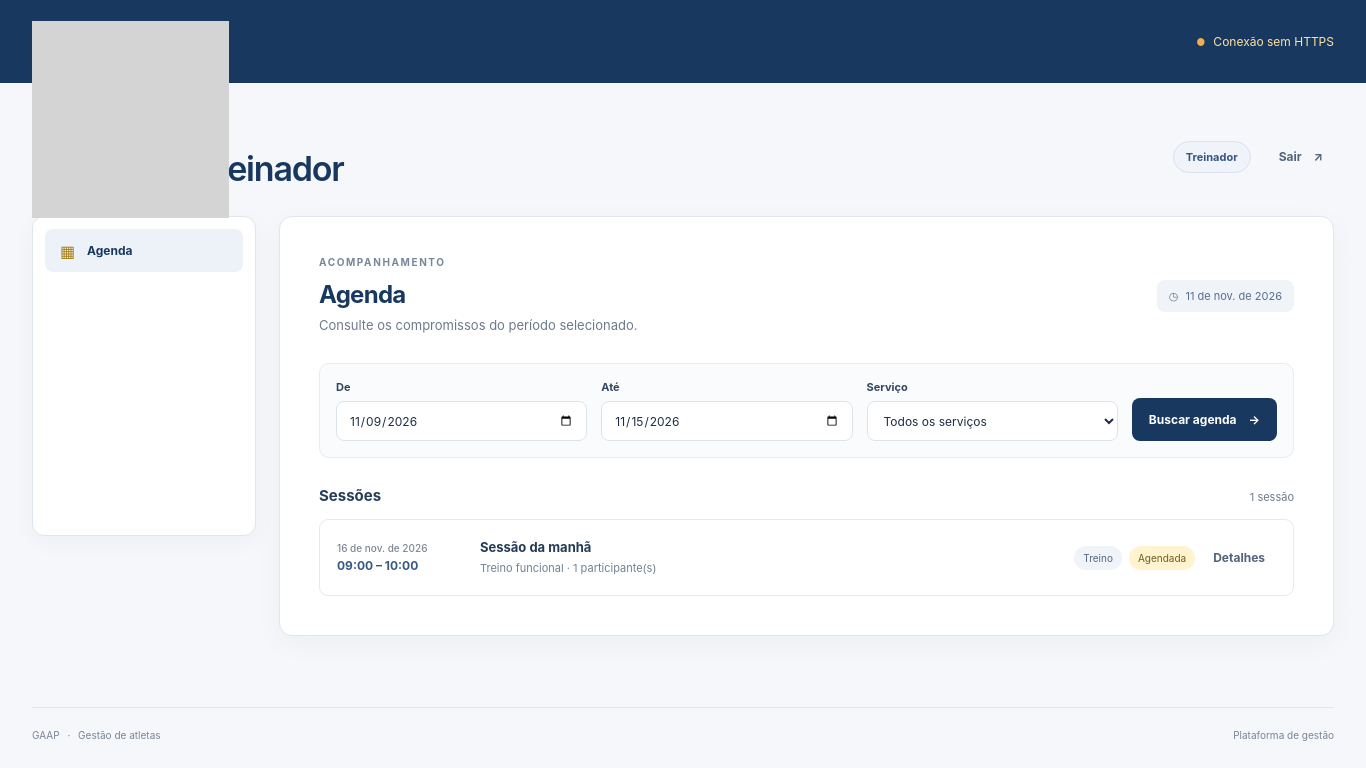
Test case: Treinador › registra presença, vê a recusa 409 da situação e o aviso antecipado do relatório
Expected: the text "1 sessão" is shown, [1250, 489, 1294, 506]
Click the button "Detalhes": click(1239, 558) [1202, 536, 1276, 579]
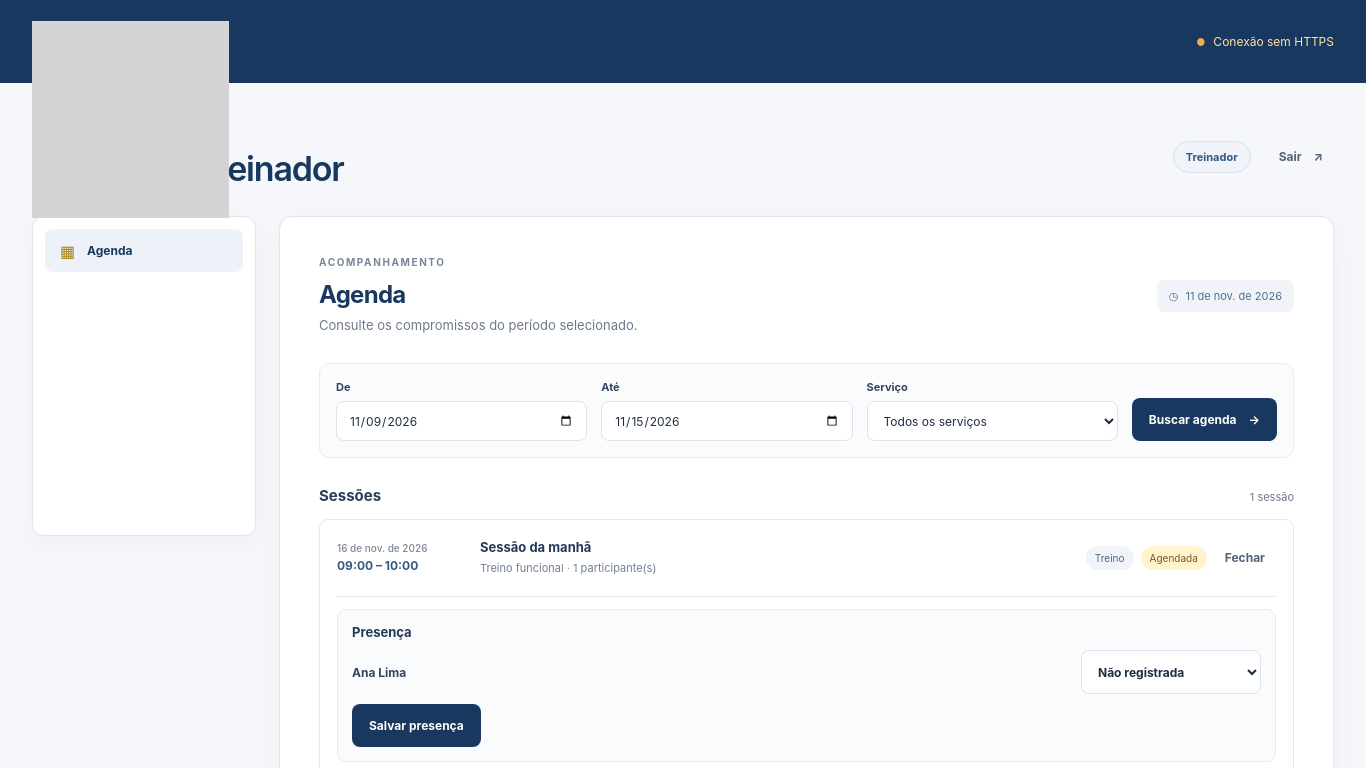
Select "Presente" in the dropdown labelled "Ana Lima": (1171, 672) [1081, 650, 1261, 694]
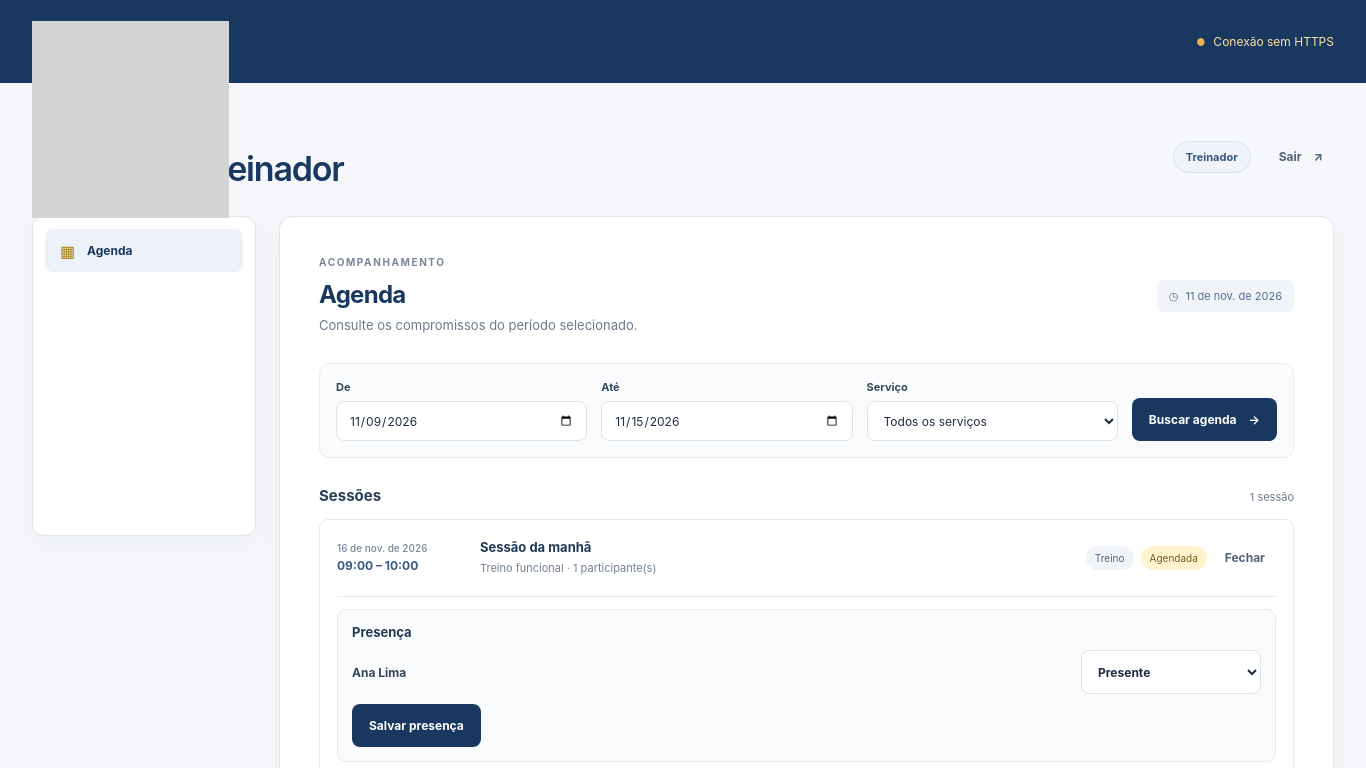
Submit the form "Salvar presença", box [337, 609, 1276, 762]
(page scrolled)
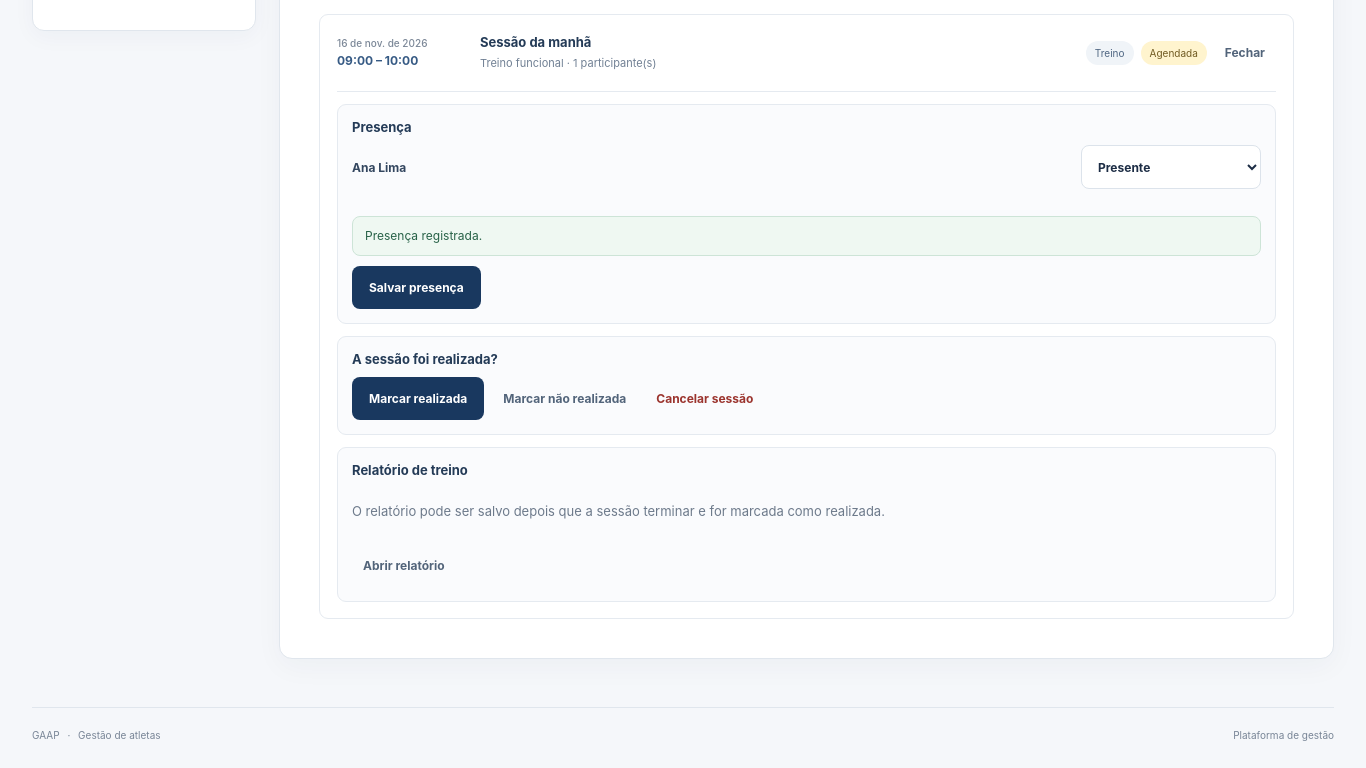
Now the text "Presença registrada." is shown, box [352, 216, 1261, 256]
Click the button "Marcar realizada": click(418, 399) [352, 377, 484, 420]
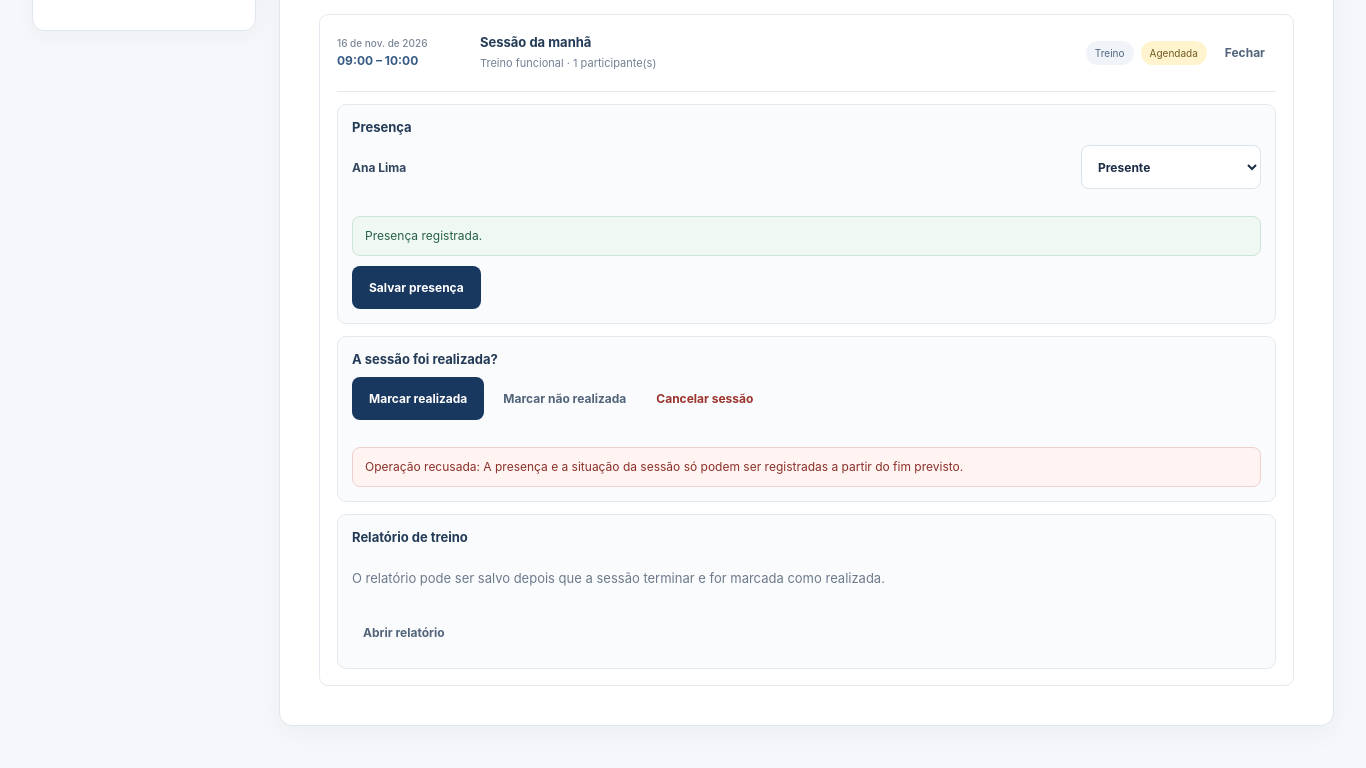
Now the text "pode ser salvo depois que a sessão terminar" is shown, box [352, 570, 885, 586]
Now the button "Abrir relatório" is shown, box [352, 611, 456, 654]
Now the text "Operação recusada: A presença e a situação" is shown, box [365, 459, 963, 474]
